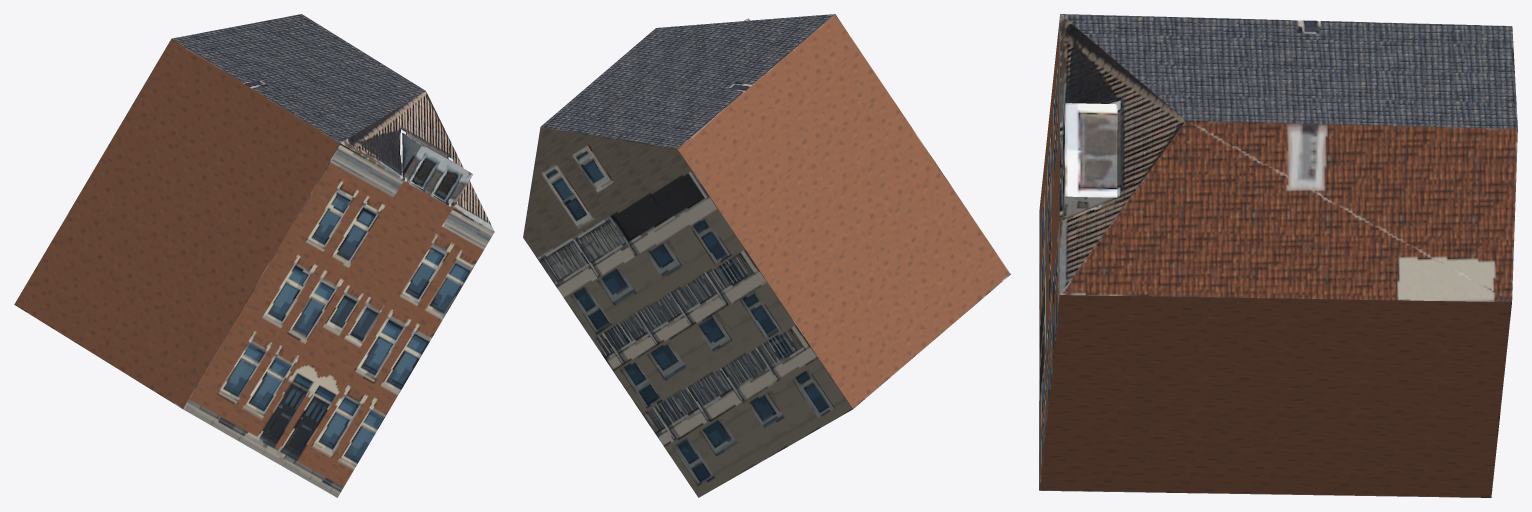
3 views of the same model, side by side, from view 1: azimuth 30°, elevation 25°; view 2: azimuth 150°, elevation 25°; view 3: azimuth 270°, elevation 25° (orthographic). The views are drawn at different scales.
Visible parts, largest first — view 1: BAG_0599100000760398 (×2); view 2: BAG_0599100000760398; view 3: BAG_0599100000760398 (×3).
Part boxes in pixels (left/top/right/bottom): BAG_0599100000760398 (×2): left=14, top=14, right=494, bottom=497; BAG_0599100000760398: left=523, top=14, right=1010, bottom=497; BAG_0599100000760398 (×3): left=1039, top=14, right=1517, bottom=497.
Bounding box in the file's own units: 13.58 × 14.2 × 12.38.
Materials: 1 (1 with a texture image).
